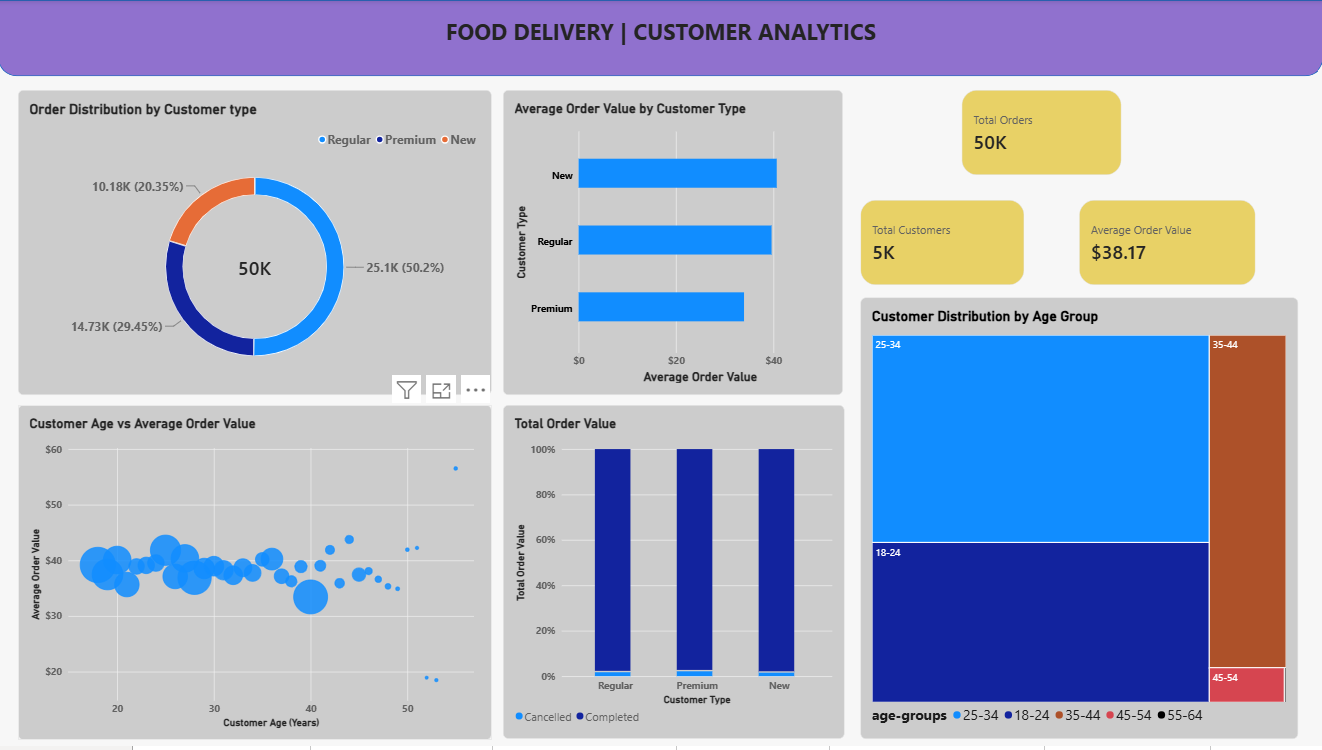

The page's visual inventory and layout, read from the dashboard file:
{"tool":"powerbi","page":{"name":"Customer Analytics","canvas":[1920,1080],"ordinal":1},"visuals":[{"type":"cardVisual","title":"v b","fields":{"Data":["FDA.Average Order Value"]},"box":[1565.4,289.5,255.2,123.1],"z":0},{"type":"cardVisual","title":"v b","fields":{"Data":["FDA.Total Customers"]},"box":[1248.7,289.5,237.1,123.1],"z":1000},{"type":"cardVisual","title":"v b","fields":{"Data":["FDA.Total Orders"]},"box":[1395.2,130.3,231.6,123.1],"z":2000},{"type":"donutChart","title":"Order Distribution by Customer type","fields":{"Category":["FDA.customer_type"],"Y":["FDA.Total Orders"]},"box":[29,130.3,685.9,441.6],"z":3000},{"type":"clusteredBarChart","title":"Average Order Value by Customer Type","fields":{"Category":["FDA.customer_type"],"Y":["FDA.Average Order Value"]},"box":[731.1,130.3,492.2,441.6],"z":4000},{"type":"treemap","title":"Customer Distribution by Age Group","fields":{"Group":["FDA.age_group"],"Values":["FDA.Total Customers"]},"box":[1248.7,430.7,633.4,638.8],"z":5000},{"type":"hundredPercentStackedColumnChart","title":"Total Order Value","fields":{"Category":["FDA.customer_type"],"Series":["FDA.order_status"],"Y":["FDA.Total Order Value"]},"box":[731.1,586.3,494,483.2],"z":6000},{"type":"scatterChart","title":"Customer Age vs Average Order Value","fields":{"Category":["FDA.customer_age"],"Size":["FDA.Total Orders"],"X":["Avg(FDA.customer_age)"],"Y":["FDA.Average Order Value"]},"box":[29,586.3,685.9,485],"z":7000},{"type":"shape","box":[0,0,1920.1,110.4],"z":8000},{"type":"textbox","box":[0,23.5,1920.1,52.5],"z":9000}]}

Visuals, with their boxes in screenshot pixels (x1, y1, x2, y2), scaled from the page's 1920x1080 canvas onto the 1322x750 screenshot:
"v b" cardVisual: rect(1078, 201, 1254, 287)
"v b" cardVisual: rect(860, 201, 1023, 287)
"v b" cardVisual: rect(961, 90, 1120, 176)
"Order Distribution by Customer type" donutChart: rect(20, 90, 492, 397)
"Average Order Value by Customer Type" clusteredBarChart: rect(503, 90, 842, 397)
"Customer Distribution by Age Group" treemap: rect(860, 299, 1296, 743)
"Total Order Value" hundredPercentStackedColumnChart: rect(503, 407, 844, 743)
"Customer Age vs Average Order Value" scatterChart: rect(20, 407, 492, 744)
shape: rect(0, 0, 1321, 77)
textbox: rect(0, 16, 1321, 53)
